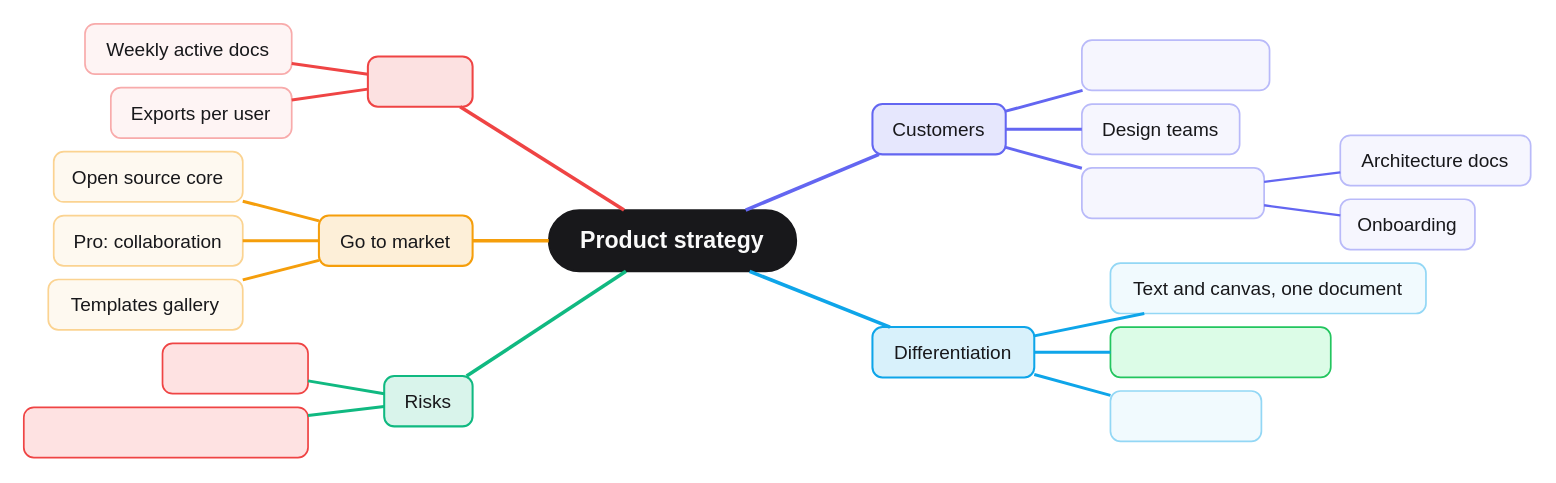
Some shapes in this 1556 by 483 pixel diagram are drawn without their labels. Each missing label, with the box of its shape:
Engineering orgs: (1080, 166, 1264, 219)
Exports every format: (1109, 326, 1331, 378)
Indie researchers: (1080, 39, 1270, 91)
Mermaid parity expectations: (22, 406, 308, 458)
Metrics: (366, 55, 473, 107)
Native speed: (1109, 390, 1262, 442)
Scope creep: (161, 342, 308, 394)
